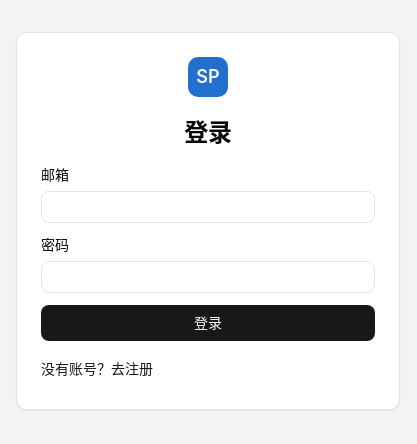
Test: LoginPage › submits login and shows error message on failure
Type "a@b.com" into the field with test id "email" at (208, 207), box [41, 191, 375, 223]
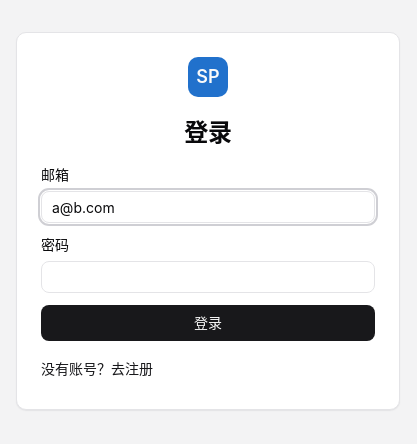
Type "password123" into the password field with test id "password" at (208, 277), box [41, 261, 375, 293]
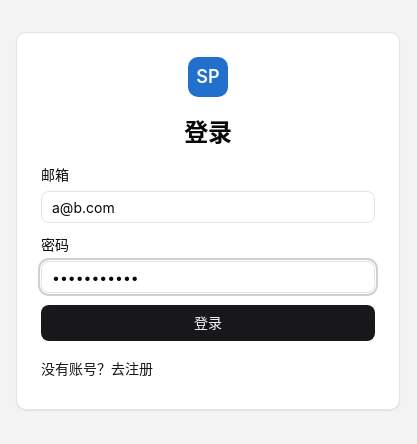
Click the button with test id "submit" at (208, 323), box [41, 305, 375, 341]
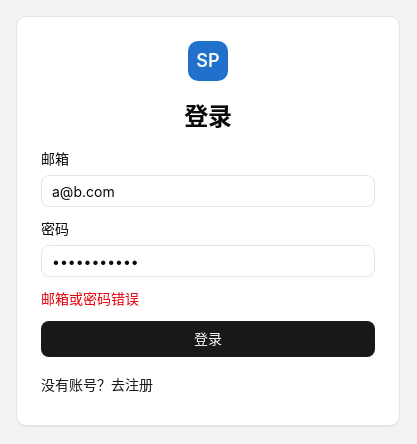
Result: the message reads "邮箱或密码错误" at [41, 290, 139, 307]
